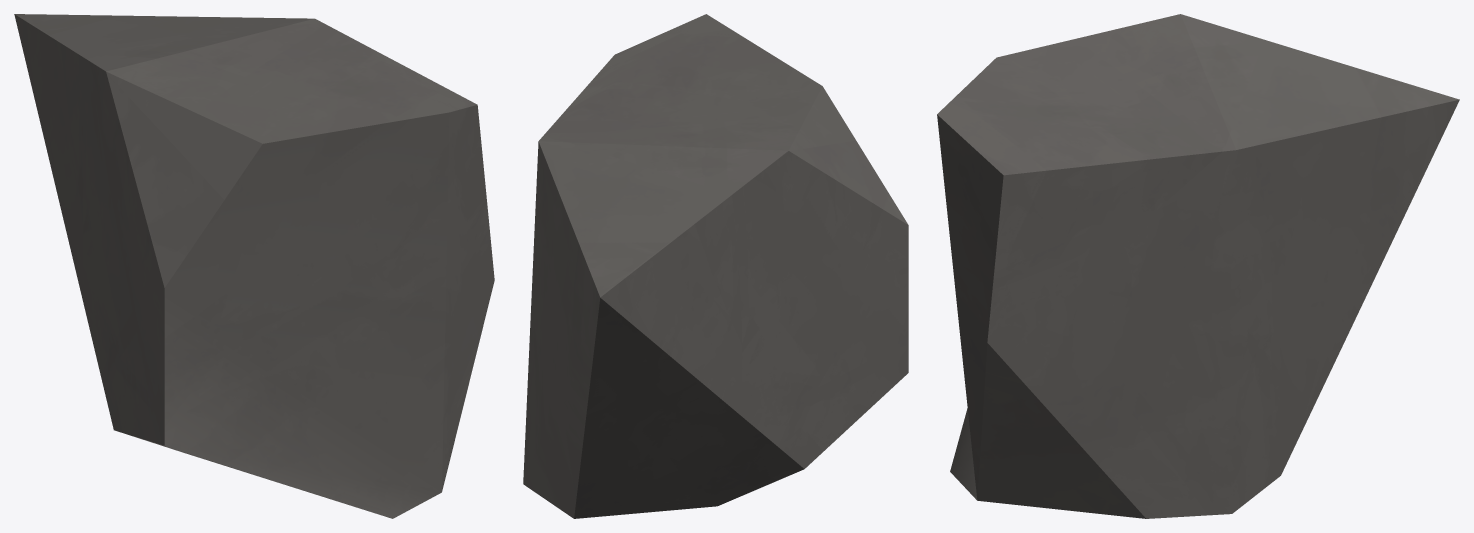
File: Rock_22_Colider.fbx
3 views of the same model, side by side, from view 1: azimuth 30°, elevation 25°; view 2: azimuth 150°, elevation 25°; view 3: azimuth 270°, elevation 25° (orthographic). The views are drawn at different scales.
Visible parts, largest first — view 1: Rock_22_Colider; view 2: Rock_22_Colider; view 3: Rock_22_Colider.
Boxes of the visible parts, x1,y1,x2,y2 form: Rock_22_Colider: [14, 14, 494, 518]; Rock_22_Colider: [523, 14, 908, 518]; Rock_22_Colider: [937, 14, 1459, 518].
Bounding box in the file's own units: 106 × 126 × 157.
